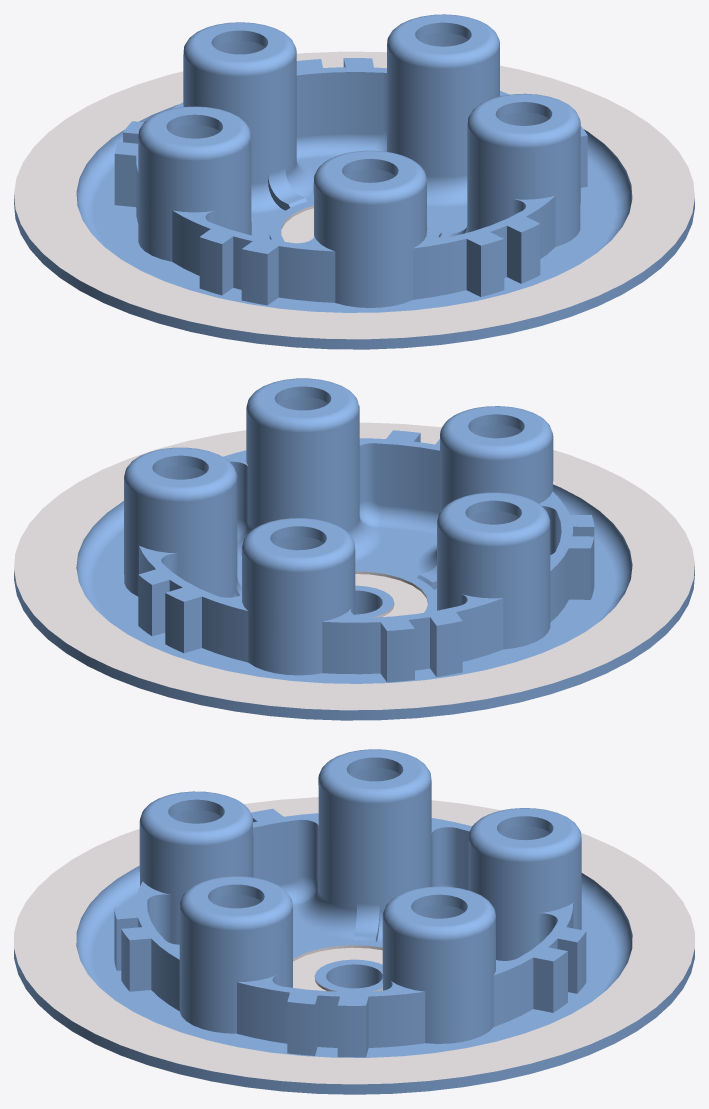
Rendered from Plate_clutch_pressure.fbx.
3 renders of one model, top to bottom at view 1: azimuth 30°, elevation 25°; view 2: azimuth 150°, elevation 25°; view 3: azimuth 270°, elevation 25°, orthographic.
Visible parts, largest first — view 1: Plate, clutch pressure; view 2: Plate, clutch pressure; view 3: Plate, clutch pressure.
Boxes of the visible parts, x1,y1,x2,y2 form: Plate, clutch pressure: [14, 14, 694, 349]; Plate, clutch pressure: [14, 378, 694, 720]; Plate, clutch pressure: [14, 749, 694, 1094].
Size of the model in its own units: 12 by 3.29 by 11.98.
